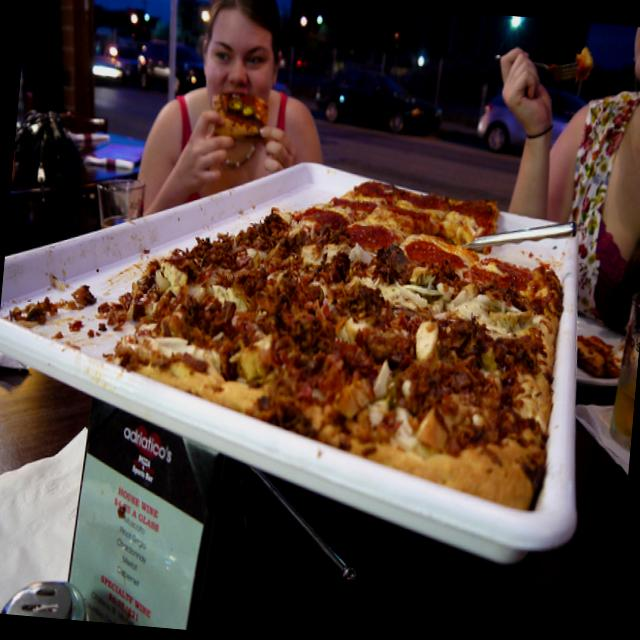Vehicle: (313, 65, 444, 136), (475, 78, 587, 158), (134, 38, 209, 98), (91, 32, 138, 83)
